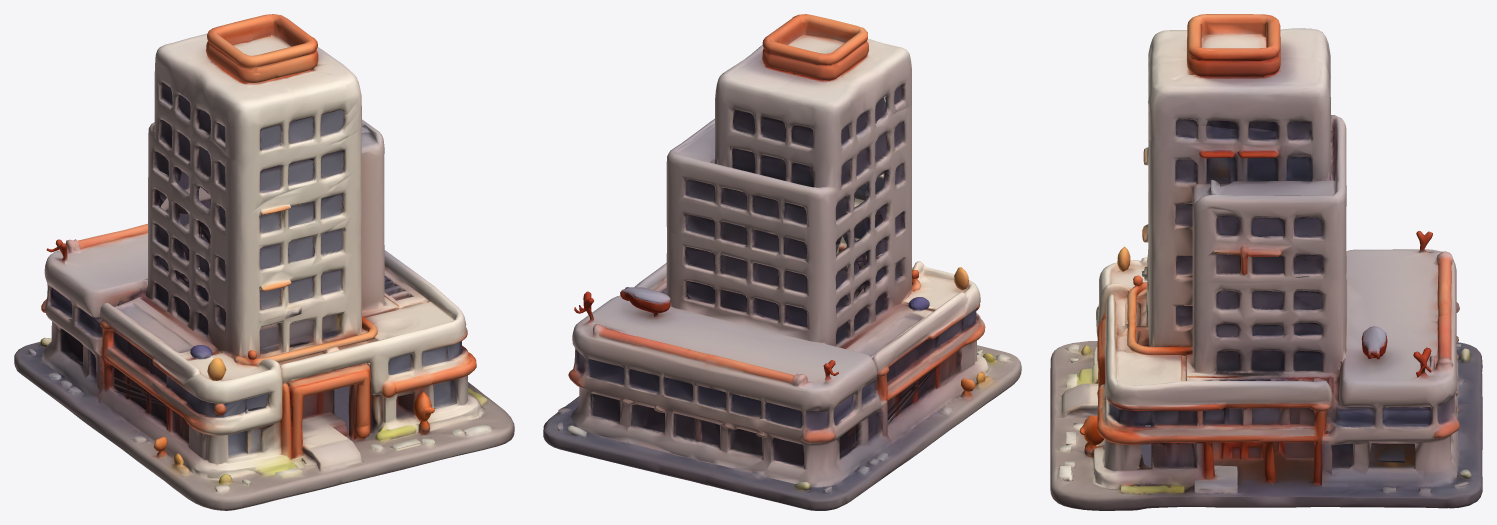
The model's file is building.glb.
The picture shows the model from 3 angles, left to right: view 1: azimuth 30°, elevation 25°; view 2: azimuth 150°, elevation 25°; view 3: azimuth 270°, elevation 25°; orthographic projection. The views are drawn at different scales.
Visible parts, largest first — view 1: tripo_node_93635c6a-9c6b-4ee7-acc8-2d37462c70a9; view 2: tripo_node_93635c6a-9c6b-4ee7-acc8-2d37462c70a9; view 3: tripo_node_93635c6a-9c6b-4ee7-acc8-2d37462c70a9.
Part boxes in pixels (<box>): tripo_node_93635c6a-9c6b-4ee7-acc8-2d37462c70a9: <box>14,14,514,510</box>; tripo_node_93635c6a-9c6b-4ee7-acc8-2d37462c70a9: <box>543,14,1021,510</box>; tripo_node_93635c6a-9c6b-4ee7-acc8-2d37462c70a9: <box>1050,14,1482,510</box>.
Bounding box in the file's own units: 0.8727 × 1 × 0.9999.
Materials: 1 (1 with a texture image).
